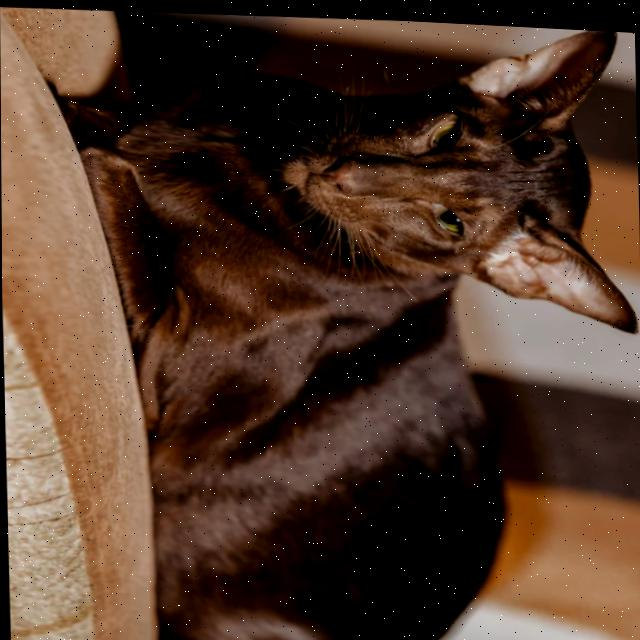Oriental: (45, 2, 640, 640)
